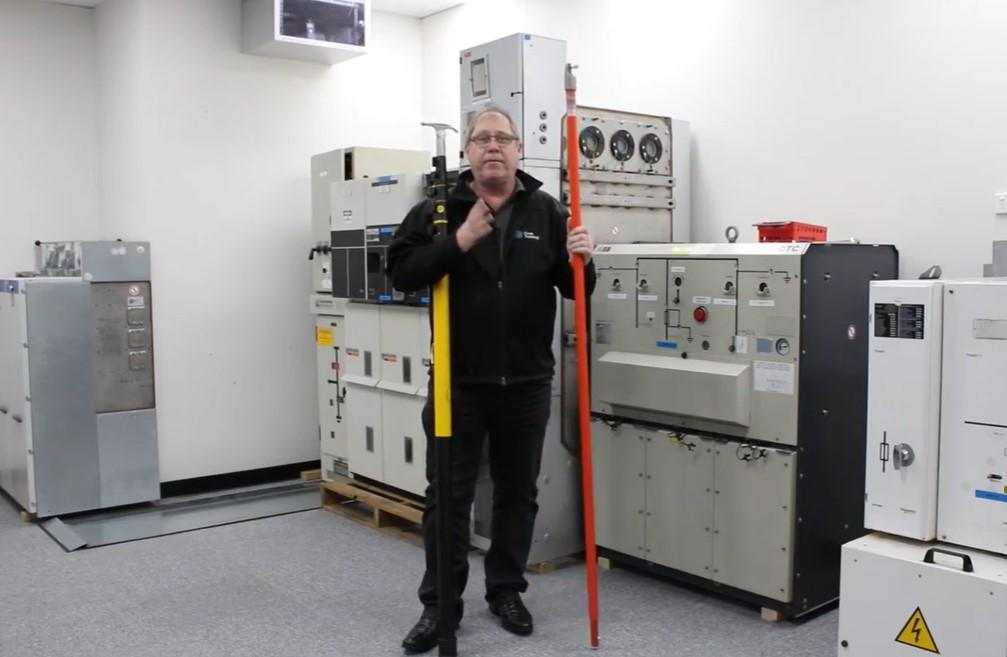Vara_Manobra: (559, 60, 602, 650), (428, 120, 453, 438)
